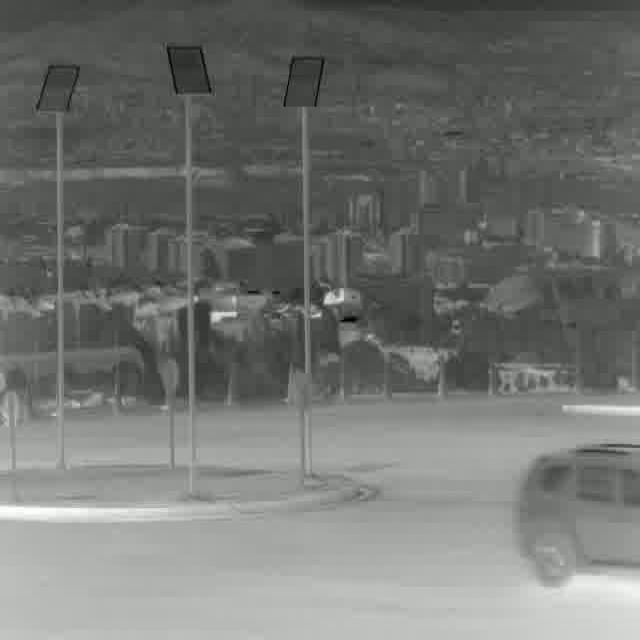Car: (513, 446, 640, 589)
